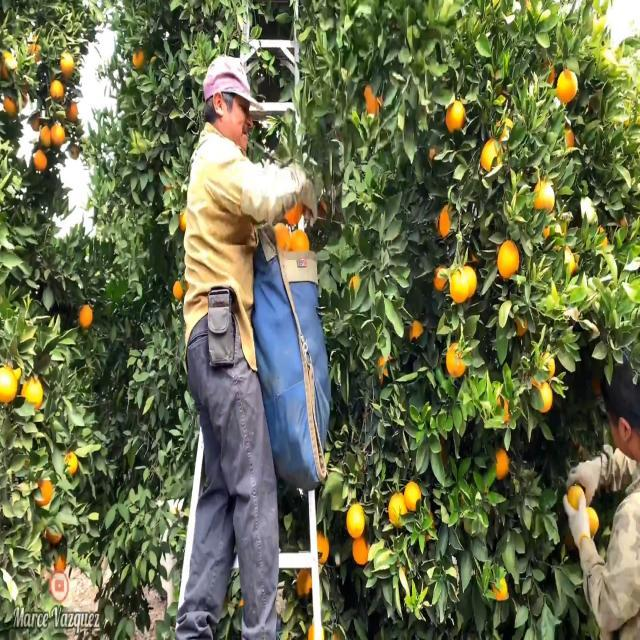Jeruk Sudah Matang: (530, 170, 558, 220), (496, 236, 524, 284), (555, 60, 581, 106), (0, 360, 24, 408), (480, 135, 507, 177), (530, 372, 554, 419), (20, 372, 46, 414), (445, 264, 471, 304), (388, 486, 410, 530), (446, 336, 466, 382), (345, 500, 367, 540), (566, 480, 588, 518), (292, 564, 316, 598), (288, 226, 312, 260), (446, 100, 468, 136), (581, 502, 603, 538), (350, 532, 373, 566), (48, 120, 71, 154), (490, 443, 510, 480), (313, 530, 332, 566), (59, 50, 78, 84), (404, 480, 424, 512), (77, 301, 94, 331), (32, 145, 50, 171), (62, 99, 81, 123), (133, 48, 150, 74), (62, 449, 78, 476), (51, 78, 66, 106), (36, 125, 54, 148), (172, 279, 186, 300)
